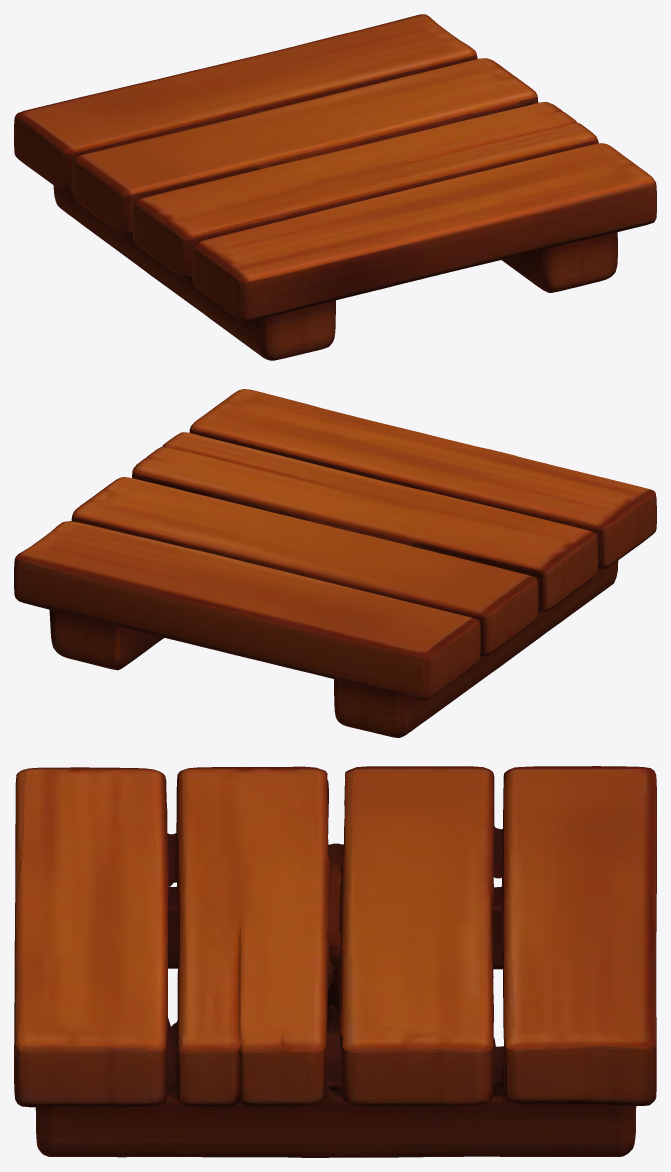
File: wood_path.glb
3 renders of one model, top to bottom at view 1: azimuth 30°, elevation 25°; view 2: azimuth 150°, elevation 25°; view 3: azimuth 270°, elevation 25°, orthographic. The views are drawn at different scales.
Visible parts, largest first — view 1: world; view 2: world; view 3: world.
Boxes of the visible parts, left/top/right/bottom form: world: left=14, top=14, right=656, bottom=360; world: left=14, top=389, right=656, bottom=737; world: left=14, top=766, right=656, bottom=1157.
Bounding box in the file's own units: 0.9958 × 0.2287 × 0.9526.
Materials: 1 (1 with a texture image).
